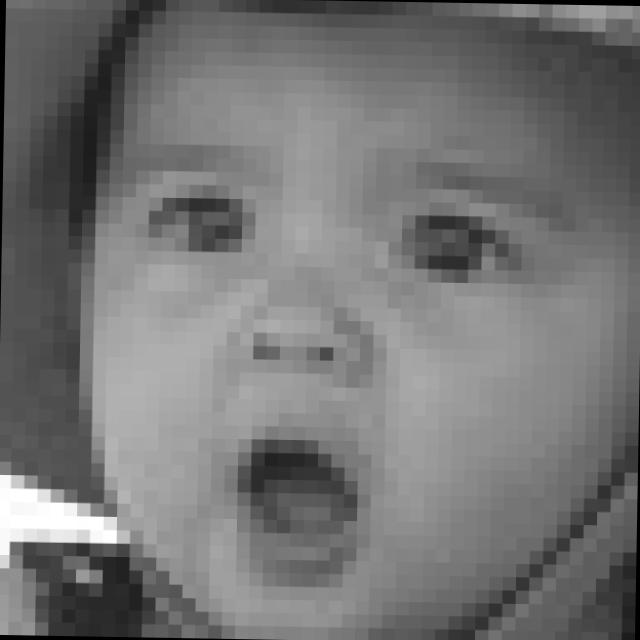surprise: (111, 139, 594, 592)
